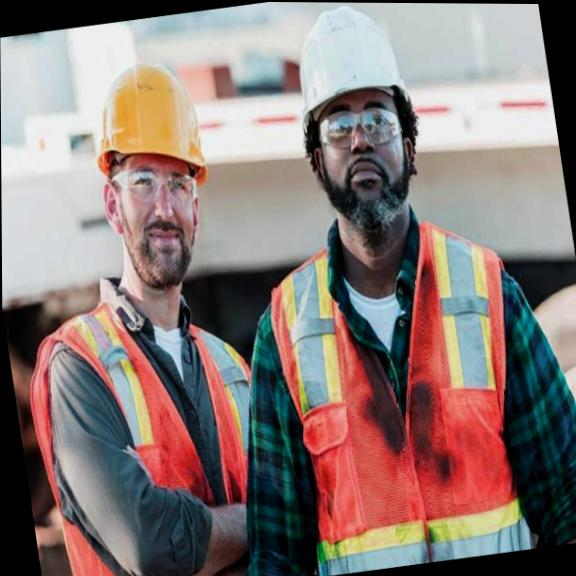safety_vest: (254, 203, 547, 576), (13, 285, 287, 576)
